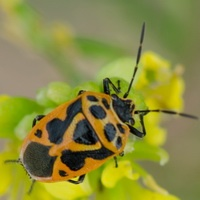insect: (0, 52, 194, 199)
